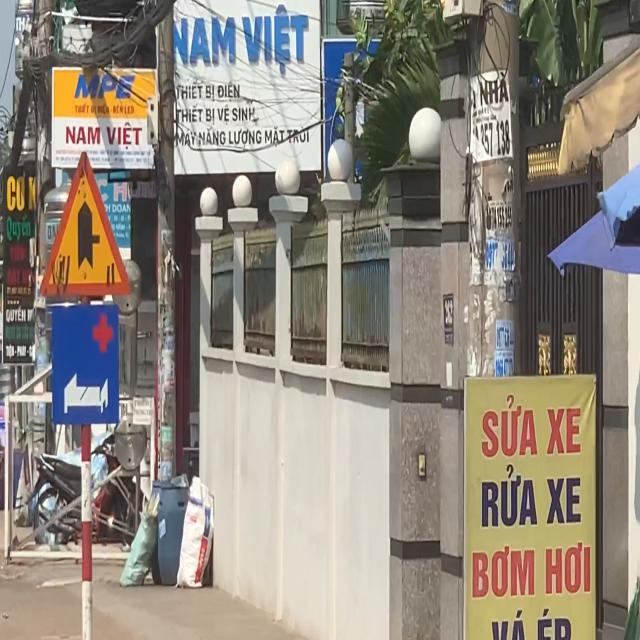Chi dan: (51, 304, 120, 425)
Giao voi duong khong uu tien: (38, 150, 132, 299)
